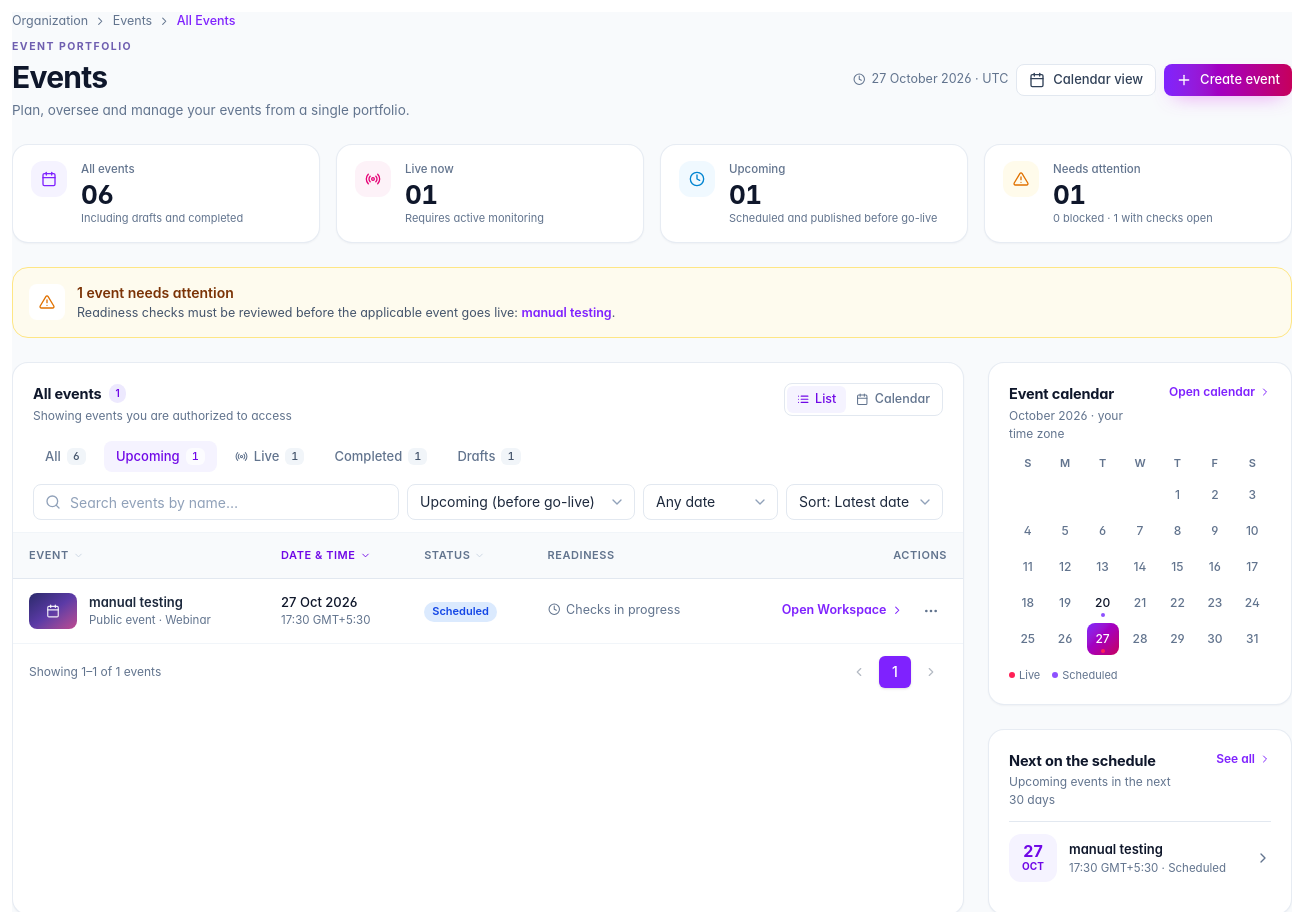
Test: Organization Events Page: Upcoming Metric & Tab Filtering › 4: Search, date filters, and status filters compose correctly
Expected: the button "manual testing" is shown, [89,593,183,612]
# Search for a non-matching query
Type "nonexistent query" into the search field with placeholder "Search events by name…" at [216, 502], box [33,484,399,520]
Wait 400 ms
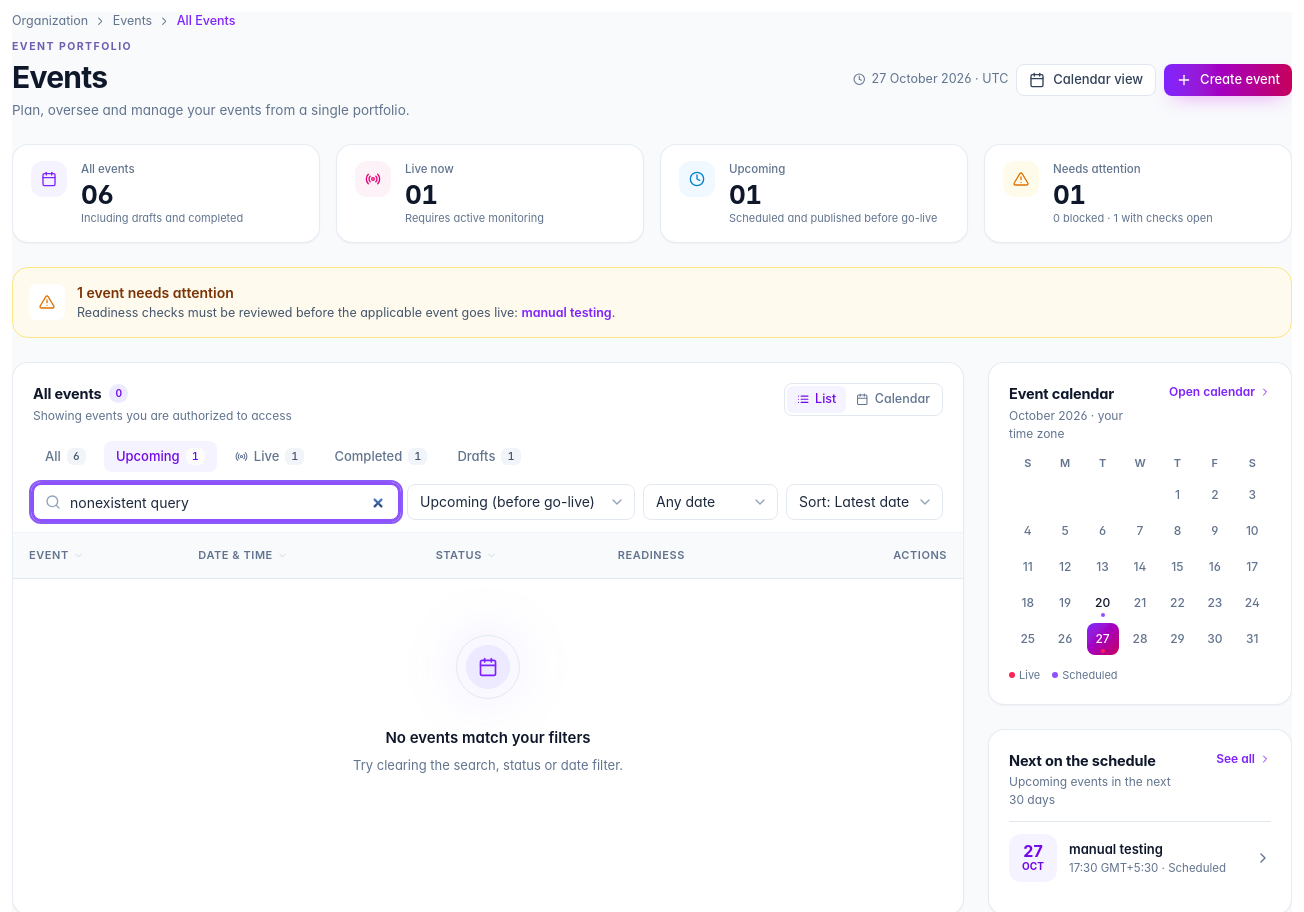
Now the text "No events match your filters" is shown, box [385,728,591,747]
Clear the search field with placeholder "Search events by name…" at [216, 502], box [33,484,399,520]
Wait 400 ms
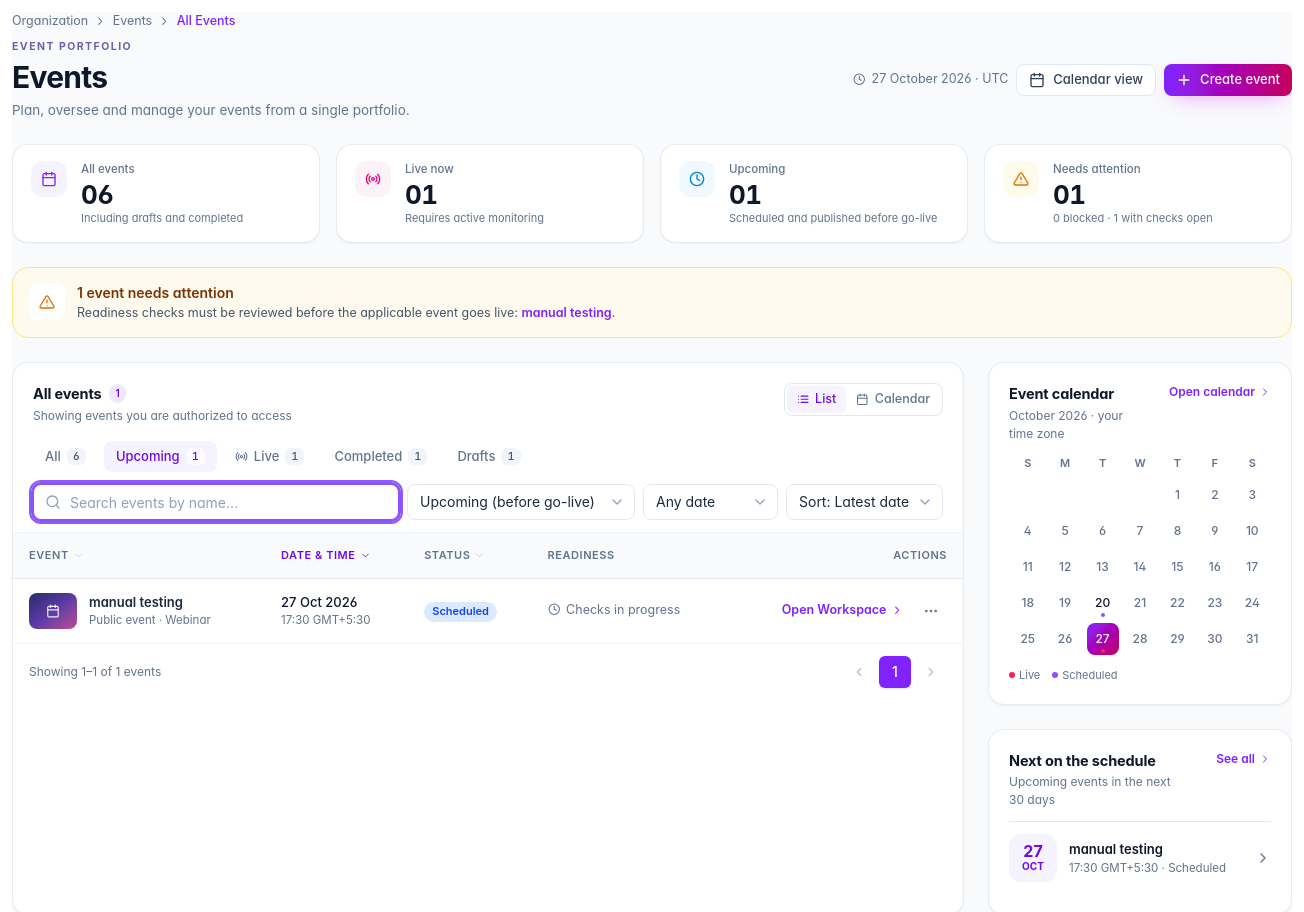
Now the button "manual testing" is shown, box [89,593,183,612]
